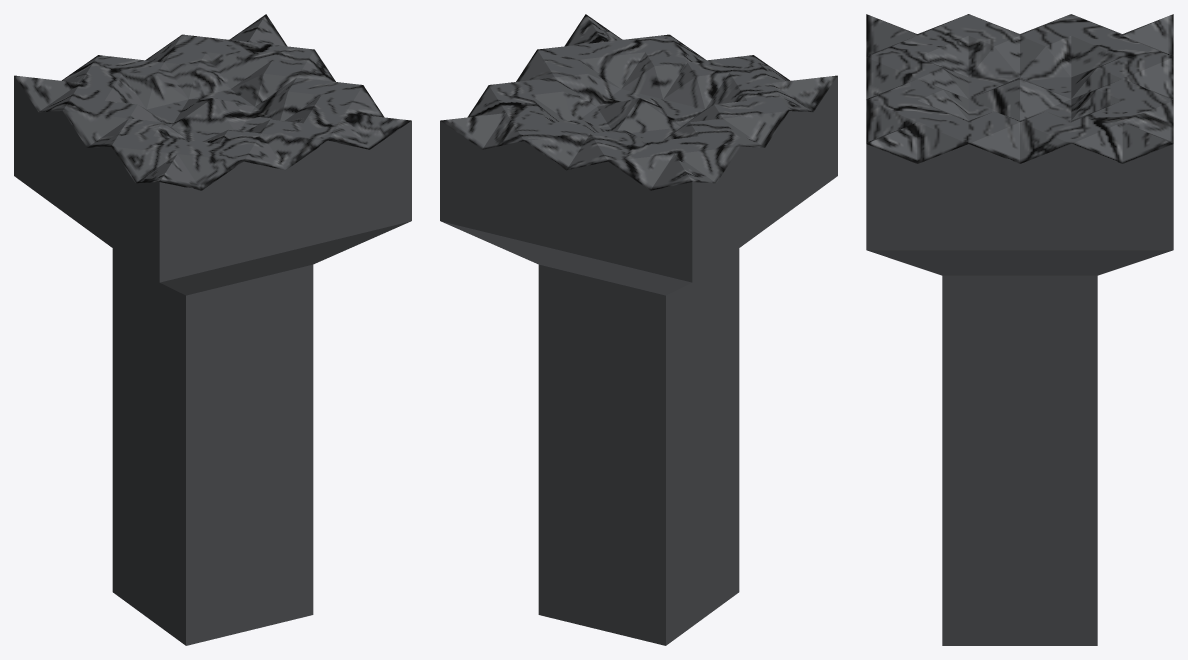
The model's file is iten_duvar9.fbx.
3 renders of one model, left to right at view 1: azimuth 30°, elevation 25°; view 2: azimuth 150°, elevation 25°; view 3: azimuth 270°, elevation 25°, orthographic. The views are drawn at different scales.
Parts seen in each view (by area): view 1: Cube.003; view 2: Cube.003; view 3: Cube.003.
Part boxes in pixels (x1,y1,x2,y2): Cube.003: [14, 14, 411, 645]; Cube.003: [440, 14, 837, 645]; Cube.003: [866, 14, 1173, 645].
Bounding box in the file's own units: 3.96 × 7.6 × 3.96.
Materials: 1 (1 with a texture image).
